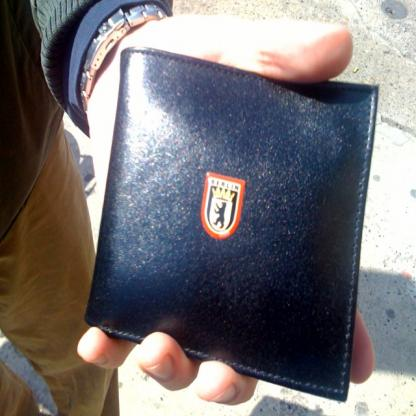monedero: (82, 43, 380, 402)
